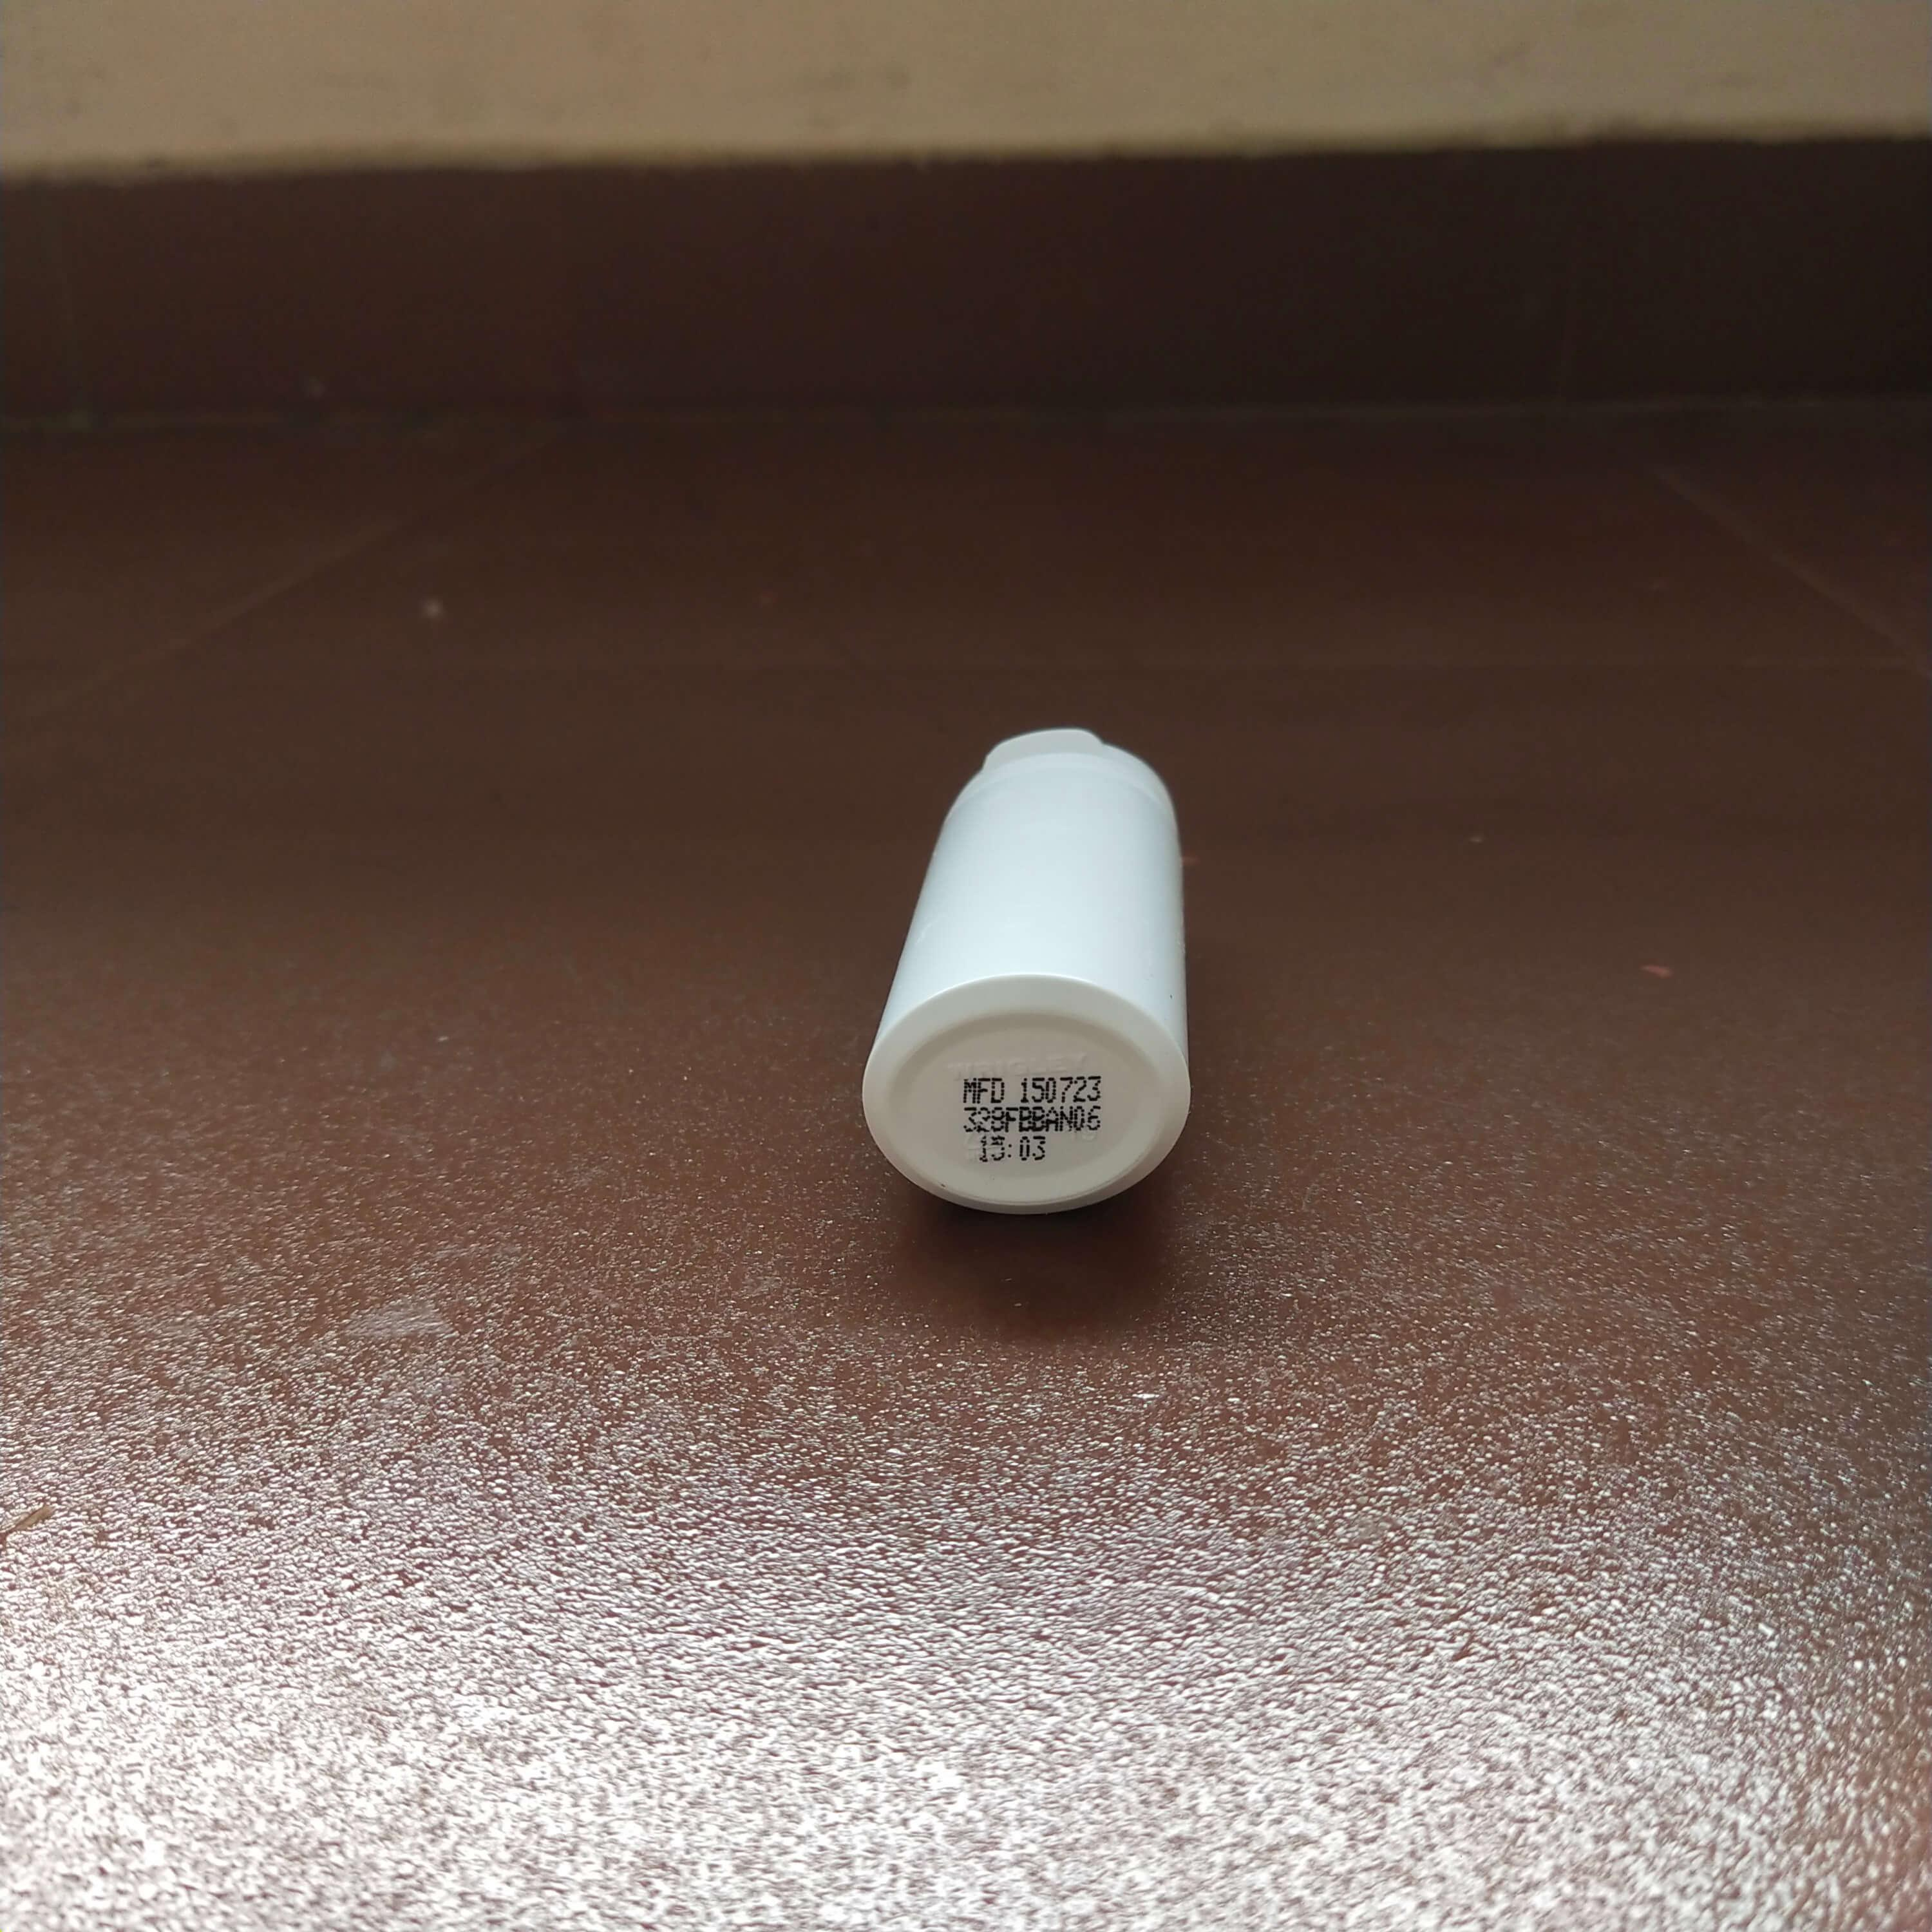plastic box: (860, 663, 1233, 1228)
